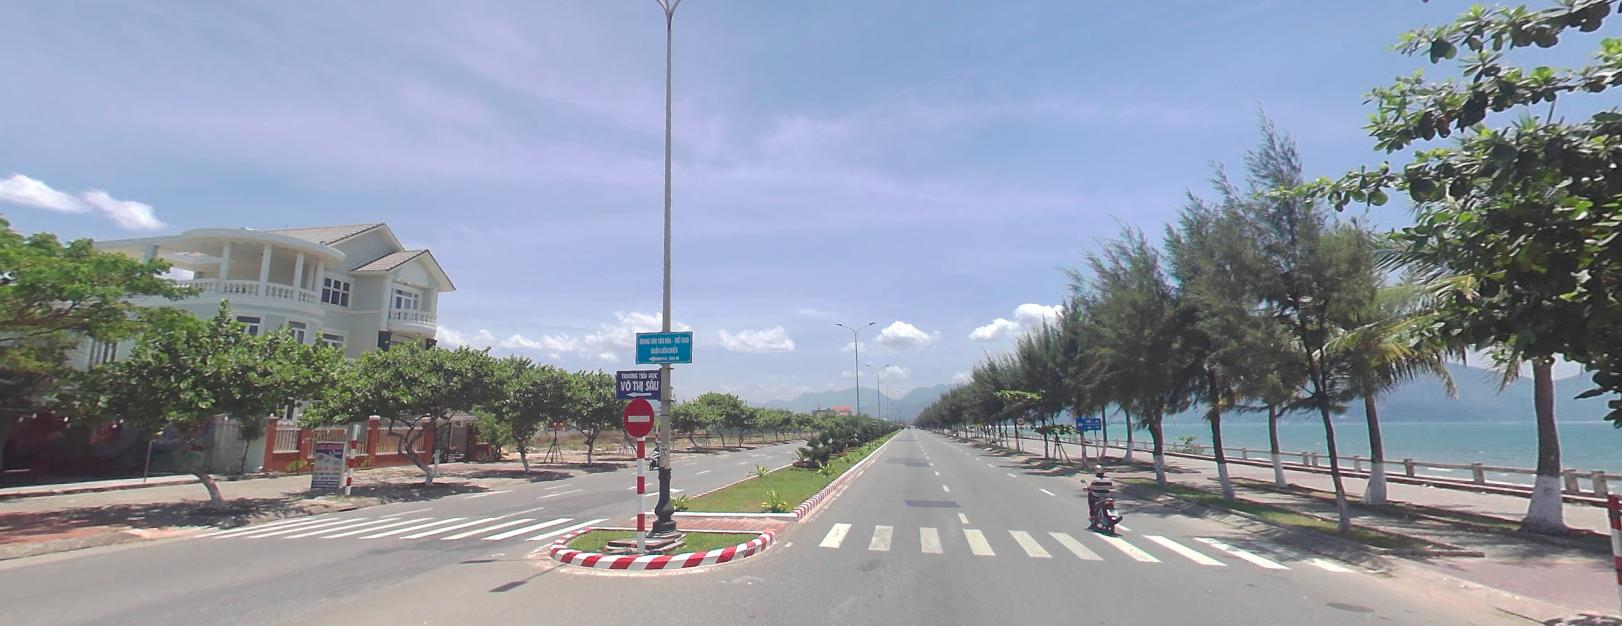Cam nguoc chieu: (621, 394, 654, 436)
Gioi han toc do: (1016, 415, 1023, 423)
